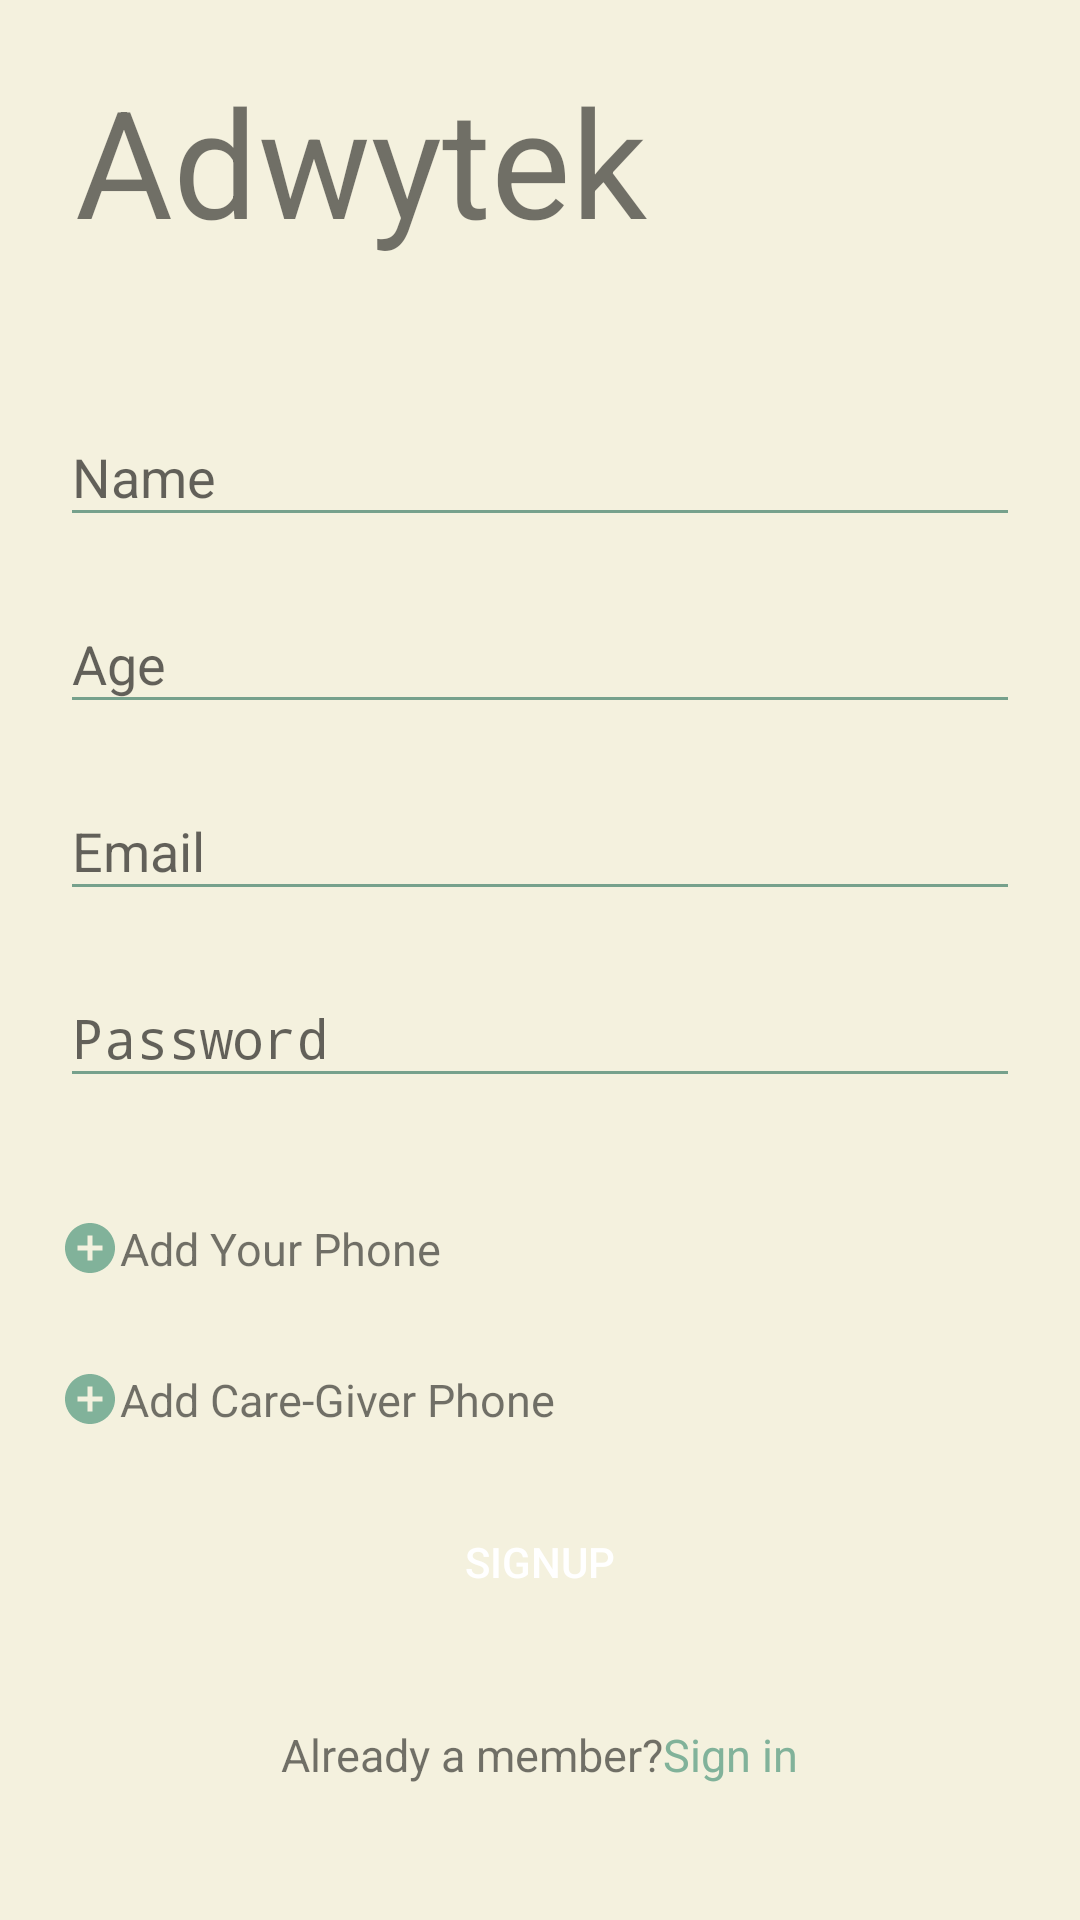

Point at icon controls on the screen. Image size 1080px×1920px, points as point (x, y).
add circle: point (90, 1248), point (90, 1399)
